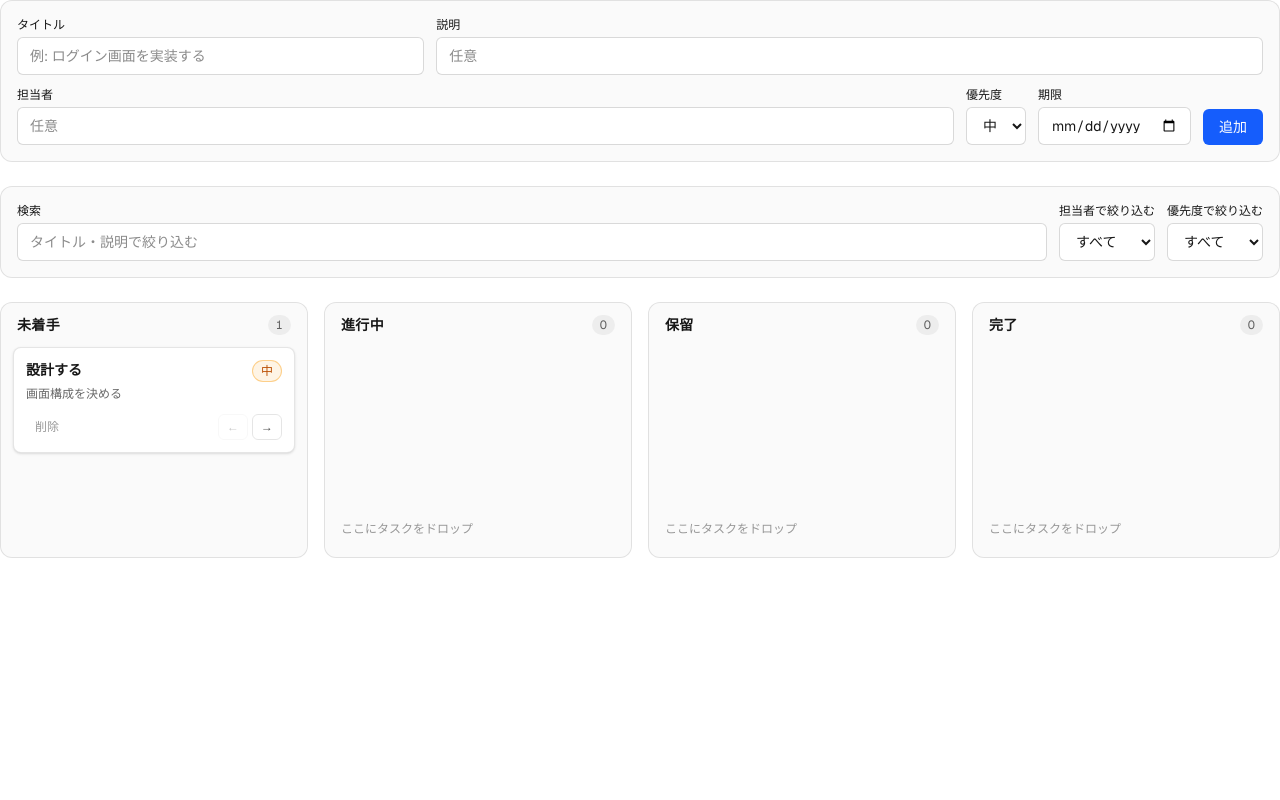
Test: Board の削除 › カードの削除ボタンでタスクが消える
Click the button with aria-label "「設計する」を削除". click: coordinates (47, 427)
box: [26,414,68,440]
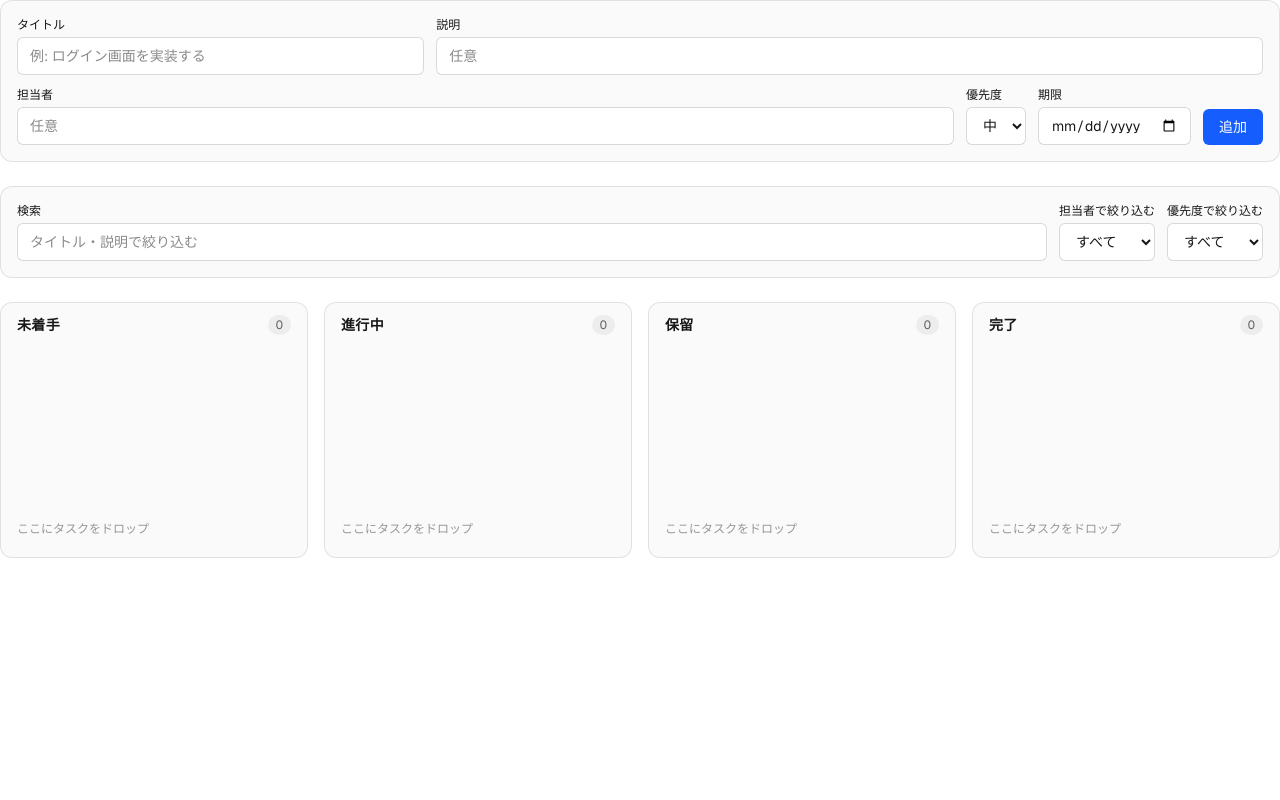
Expected: the heading "設計する" is gone
Expected: the text named "未着手のタスク数" reads "0", [276,317,283,333]
